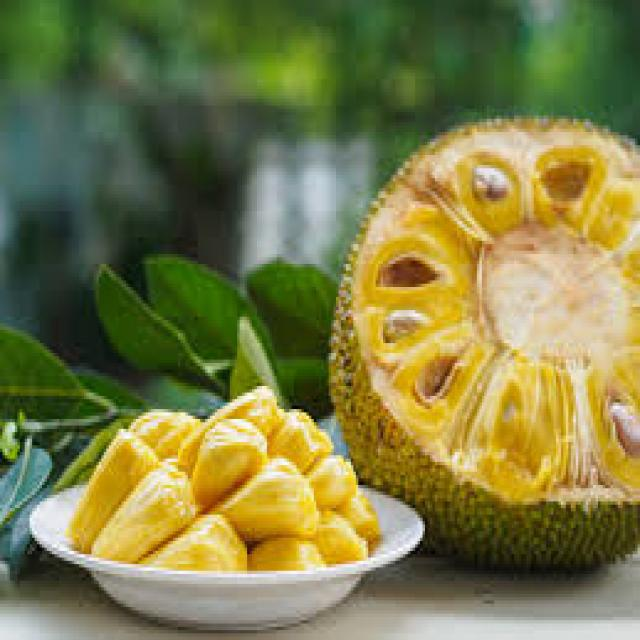organic waste: (323, 112, 638, 571), (141, 254, 274, 389), (91, 261, 220, 386), (0, 429, 91, 574), (0, 320, 111, 429), (67, 425, 153, 551), (89, 458, 193, 558), (208, 452, 316, 538), (175, 382, 282, 468), (242, 257, 336, 353), (190, 416, 267, 504), (131, 512, 247, 568), (0, 432, 49, 531), (265, 402, 331, 472), (128, 402, 198, 456), (304, 449, 353, 511), (311, 508, 366, 554), (79, 366, 141, 406), (247, 535, 321, 564), (606, 396, 638, 455), (344, 492, 378, 541), (469, 158, 506, 198), (381, 304, 425, 333)
